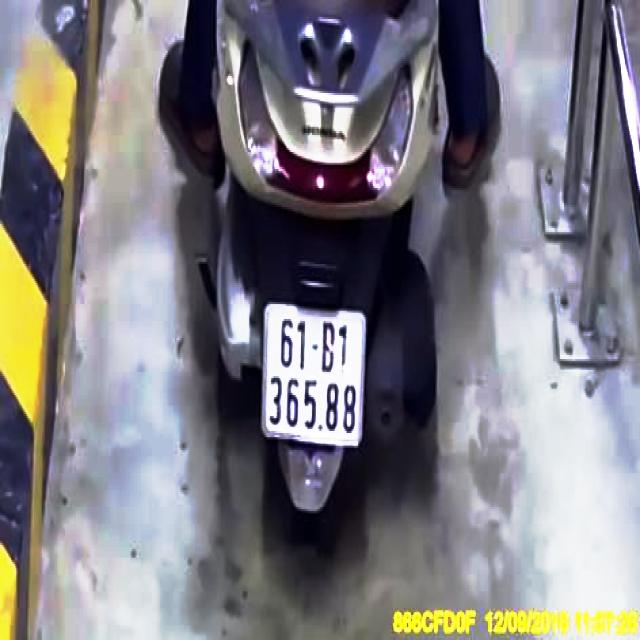license_plate: (265, 303, 366, 450)
